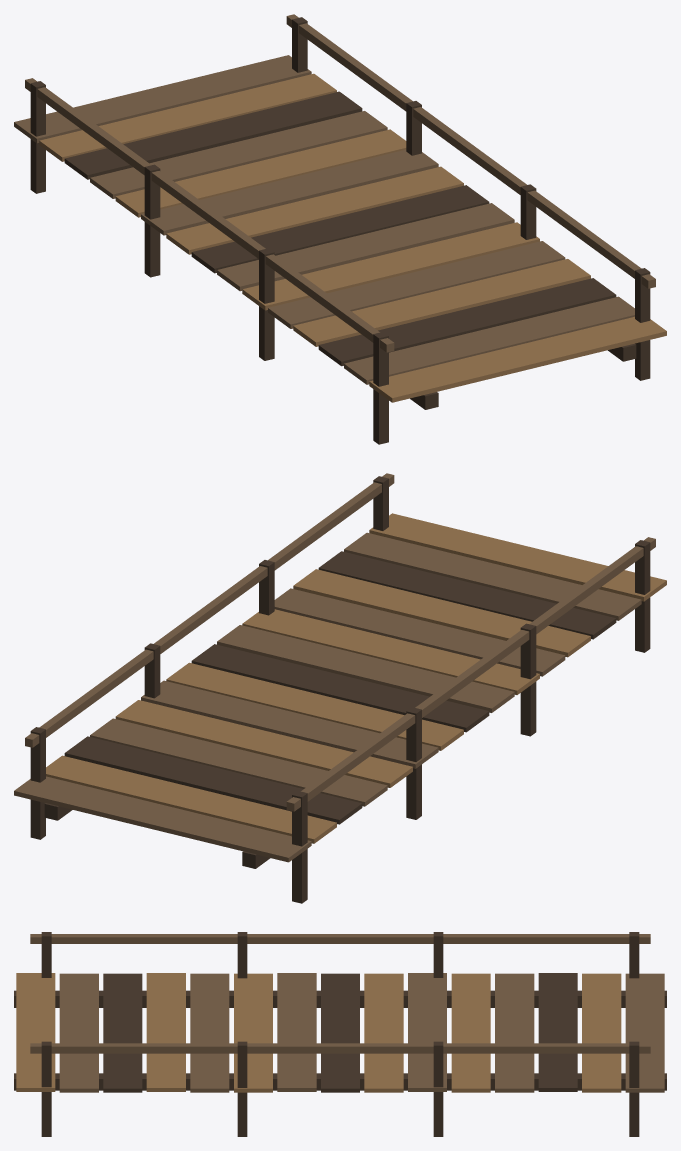
Rendered from bridge_wood.glb.
The picture shows the model from 3 angles, top to bottom: view 1: azimuth 30°, elevation 25°; view 2: azimuth 150°, elevation 25°; view 3: azimuth 270°, elevation 25°; orthographic projection. The views are drawn at different scales.
Parts seen in each view (by area): view 1: bridge_wood; view 2: bridge_wood; view 3: bridge_wood.
Boxes of the visible parts, x1,y1,x2,y2 form: bridge_wood: (14, 14, 666, 444); bridge_wood: (14, 473, 666, 903); bridge_wood: (14, 932, 666, 1136).
Size of what is drawn, in the model's own units: 5 by 1.85 by 12.
Materials: 1 (1 with a texture image).
